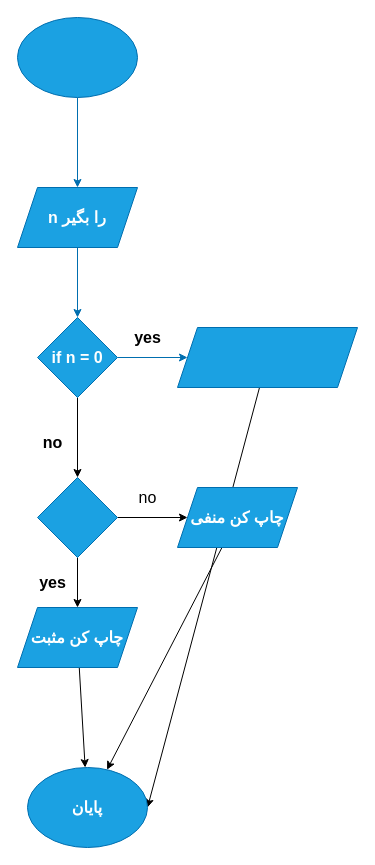
This 375x865 diagram has some shape labels left out. Each missing label, with the centre of its shape:
if n > 0: (x=77, y=517)
شروع: (x=77, y=57)
چاپ کن صفر: (x=267, y=357)
